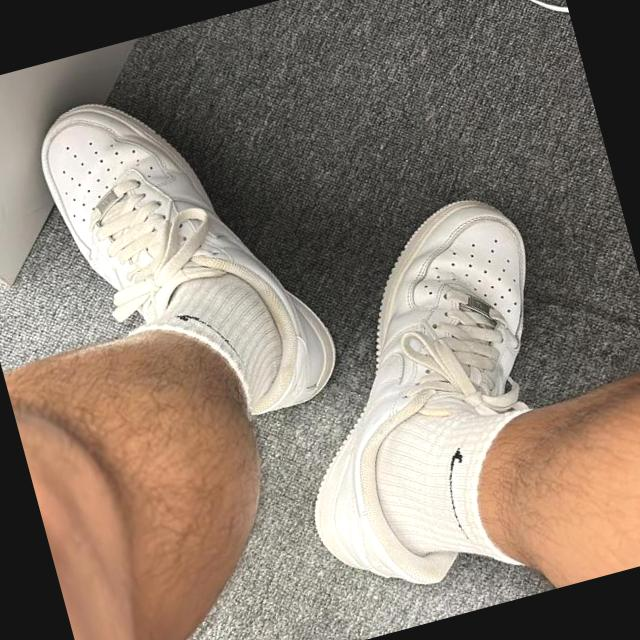nike_original_airforce: (240, 185, 616, 627), (25, 56, 350, 458)
